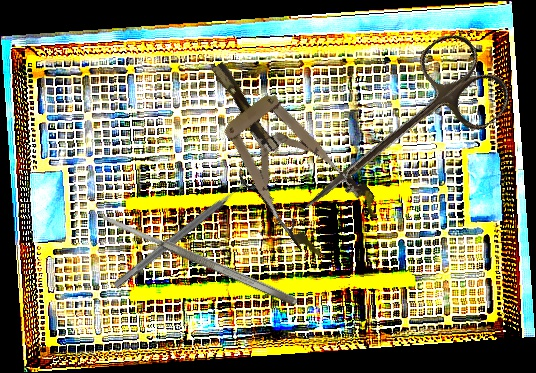Fixation Ring: (106, 166, 258, 298)
Iris Scissors: (277, 24, 519, 249)
Spatula Surgical: (98, 209, 300, 309)
Speculum: (181, 37, 385, 265)
